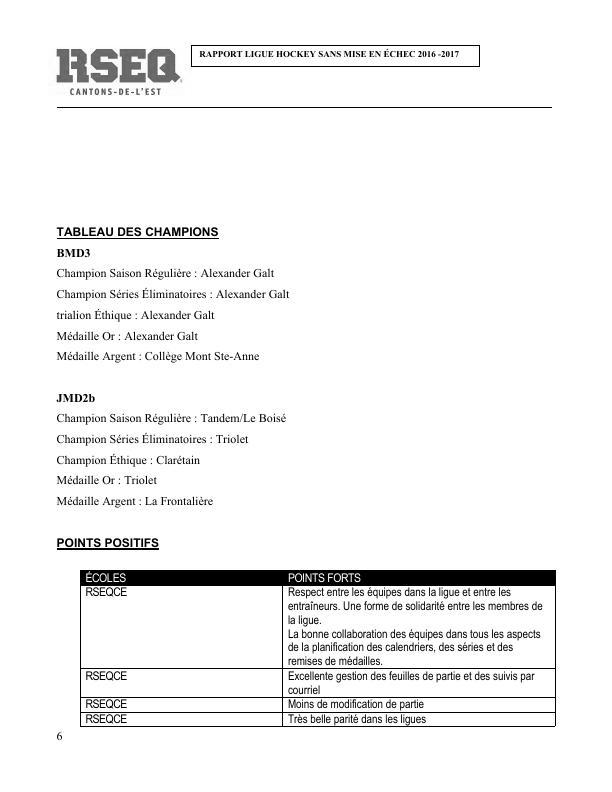table: (77, 566, 564, 733)
text: (54, 216, 299, 372), (51, 389, 296, 513), (50, 534, 168, 554)
